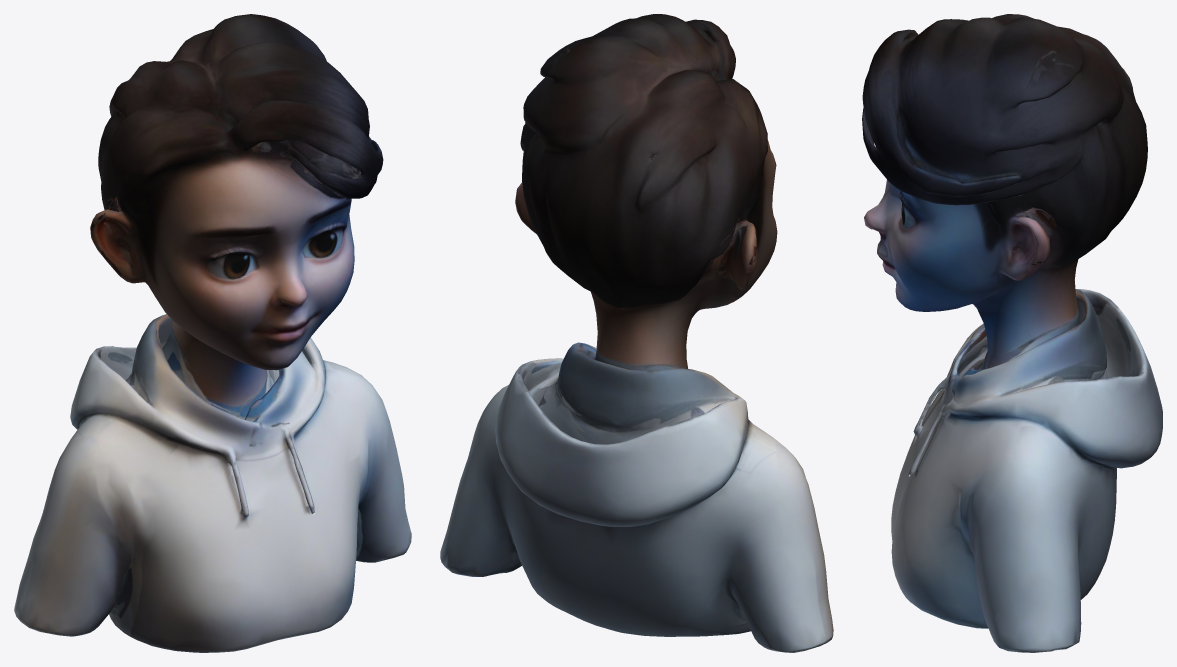
The picture shows the model from 3 angles, left to right: view 1: azimuth 30°, elevation 25°; view 2: azimuth 150°, elevation 25°; view 3: azimuth 270°, elevation 25°; orthographic projection.
Parts seen in each view (by area): view 1: Mesh1.0; view 2: Mesh1.0; view 3: Mesh1.0.
Boxes of the visible parts, left/top/right/bottom form: Mesh1.0: left=14, top=14, right=411, bottom=652; Mesh1.0: left=440, top=14, right=833, bottom=652; Mesh1.0: left=862, top=14, right=1162, bottom=652.
Size of the model in its own units: 141 by 200 by 95.87.
Materials: 1 (1 with a texture image).
